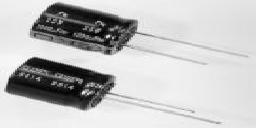Electrolytic-capacitor: (3, 57, 214, 128), (30, 2, 252, 67)
